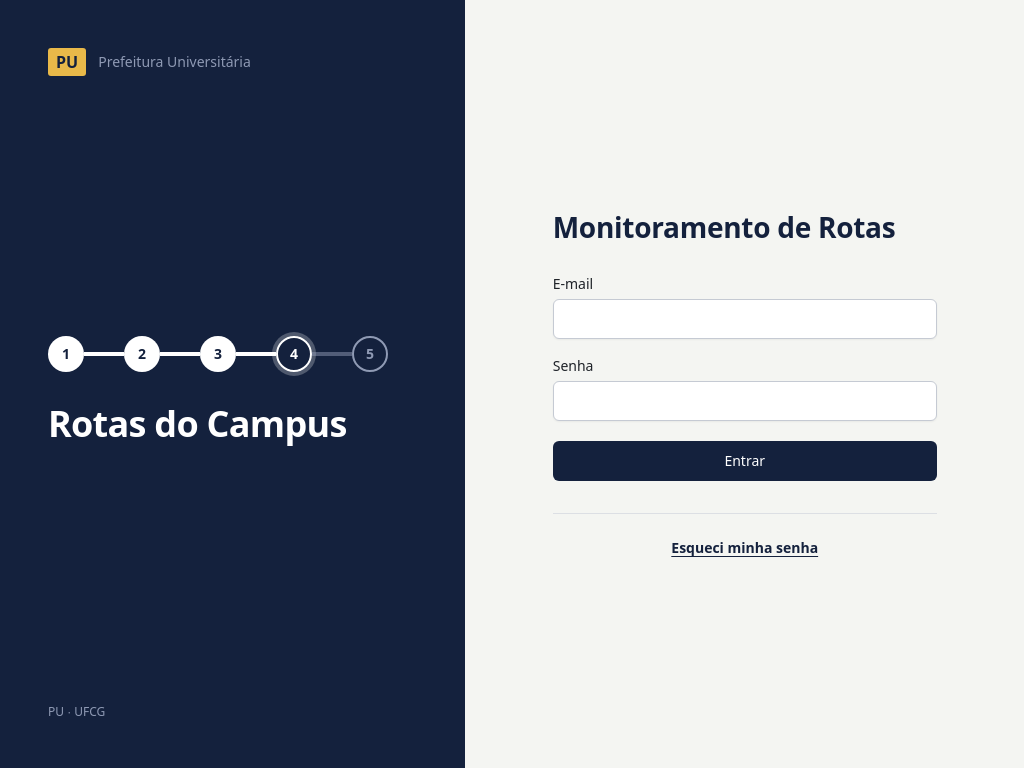
Test: LoginPage › shows a validation message for an invalid e-mail without submitting
This screenshot has width=1024, height=768.
Step 1. Type "não-é-um-email" into the field labelled "E-mail" → (745, 319), box [553,299,937,339]
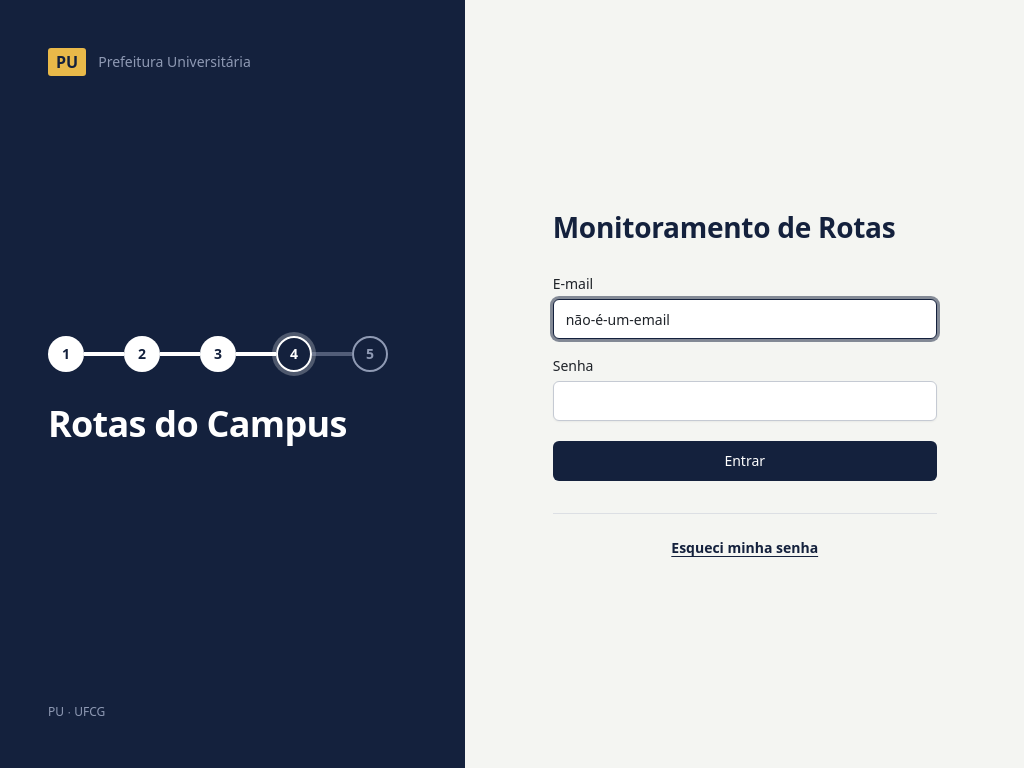
Step 2. Click the button "Entrar" → (745, 461), box [553,441,937,481]
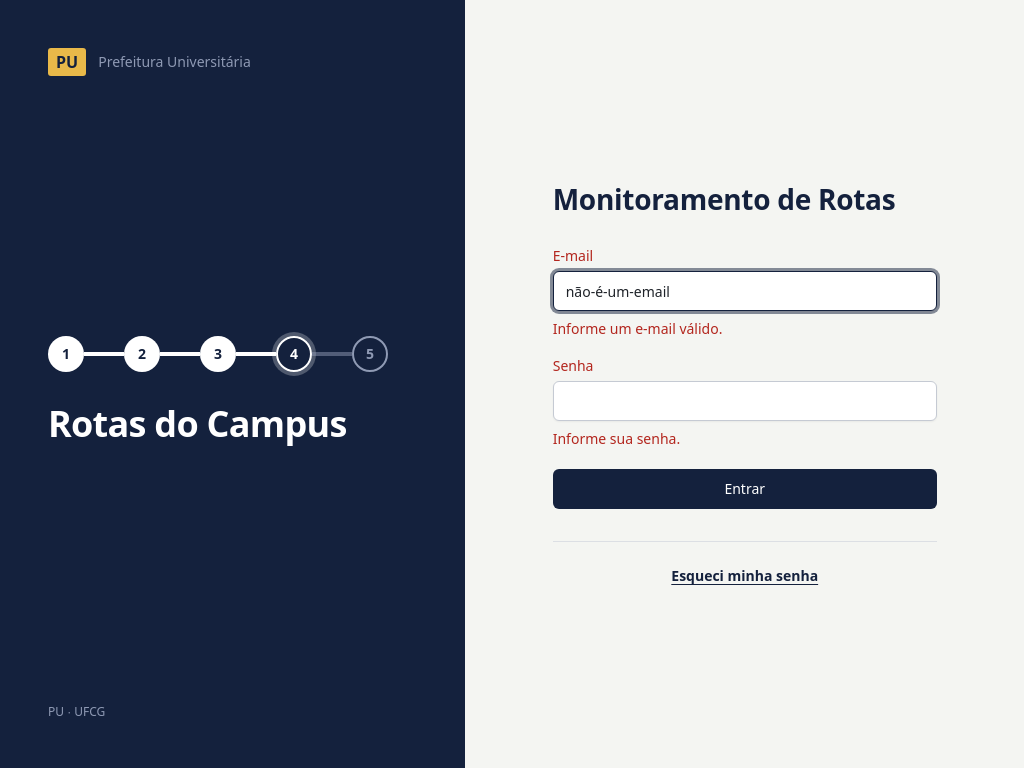
Result: the text "Informe um e-mail válido." is shown at [553,319,722,338]
